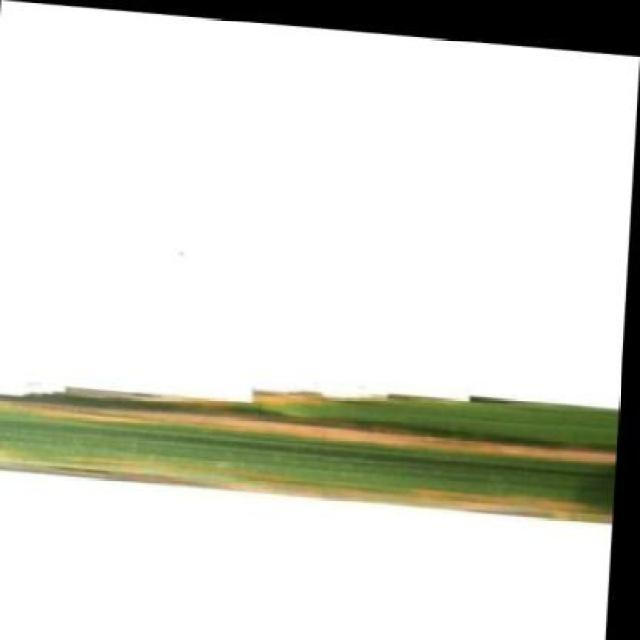Brown_Spot: (0, 346, 625, 522)
